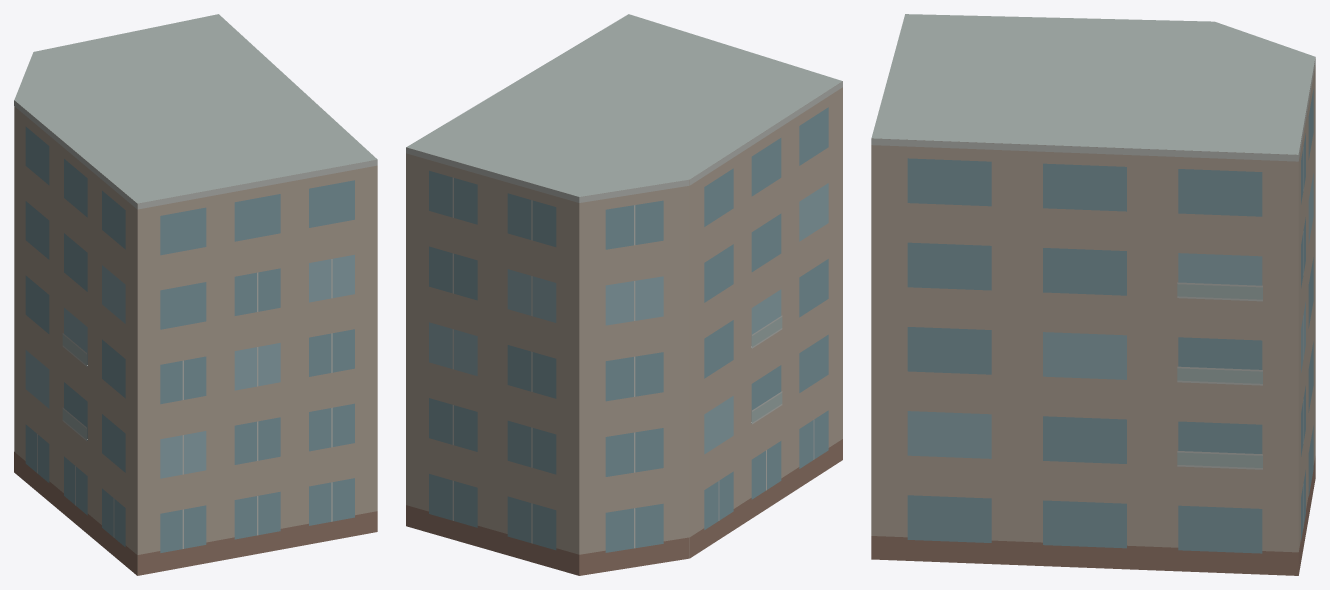
The model's file is survey-upis-32968938.glb.
3 views of the same model, side by side, from view 1: azimuth 30°, elevation 25°; view 2: azimuth 150°, elevation 25°; view 3: azimuth 270°, elevation 25° (orthographic). The views are drawn at different scales.
Parts seen in each view (by area): view 1: survey-upis-32968938.tmp; view 2: survey-upis-32968938.tmp; view 3: survey-upis-32968938.tmp.
Part boxes in pixels (x1,y1,x2,y2): survey-upis-32968938.tmp: (14, 14, 377, 575); survey-upis-32968938.tmp: (406, 14, 842, 575); survey-upis-32968938.tmp: (871, 14, 1315, 575).
Size of the model in its own units: 10.95 by 15.25 by 14.59.
